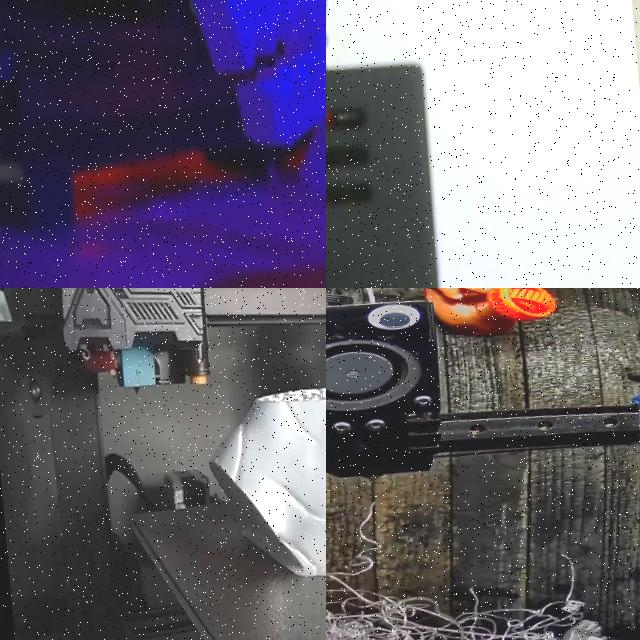spaghetti: (326, 541, 580, 640)
